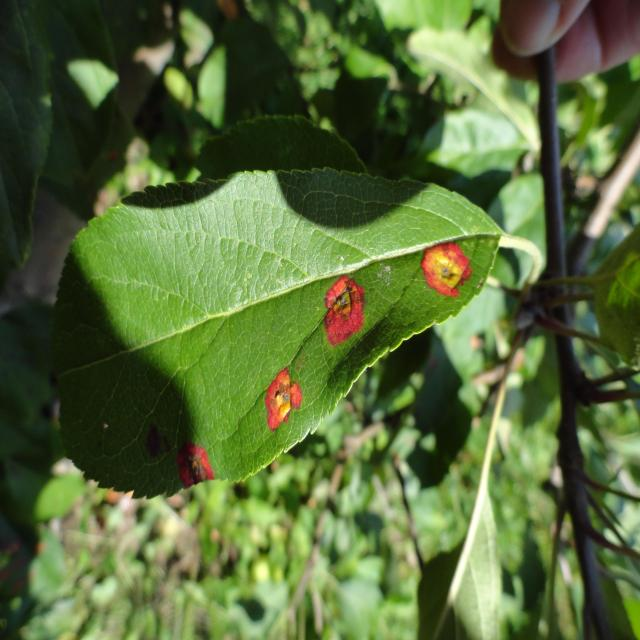Rust: (414, 230, 485, 315), (318, 267, 371, 353), (249, 366, 309, 435), (167, 438, 232, 498)
